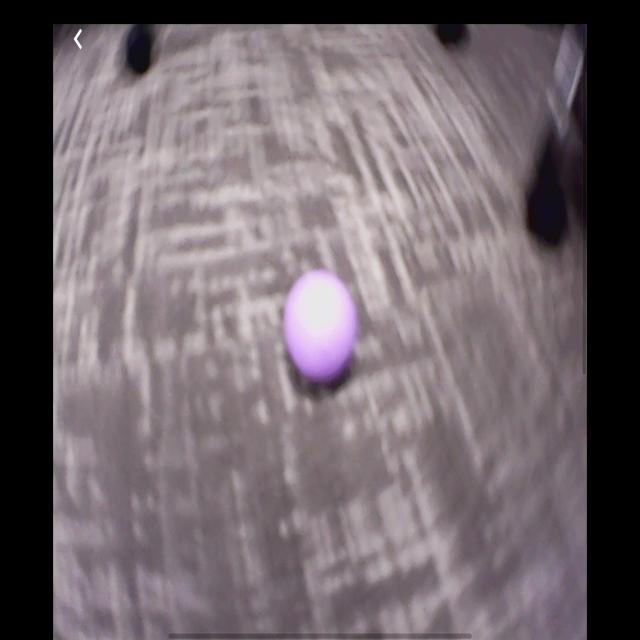ball: (283, 267, 360, 386)
